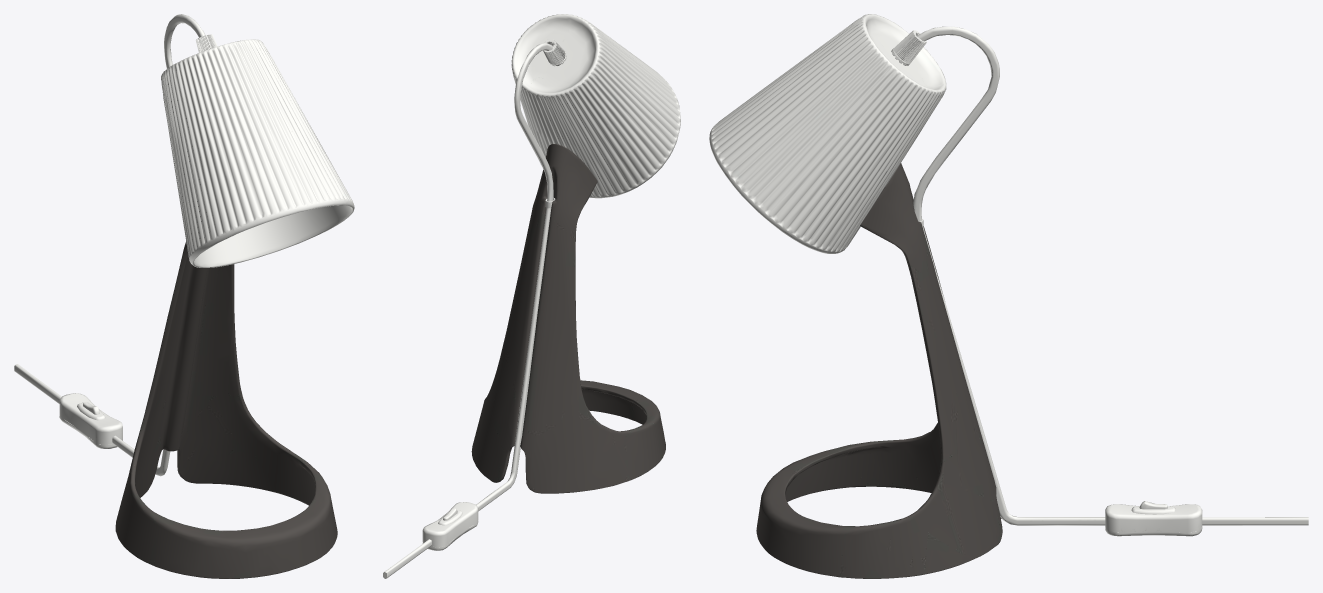
Rendered from SVALLET work lamp.glb.
3 renders of one model, left to right at view 1: azimuth 30°, elevation 25°; view 2: azimuth 150°, elevation 25°; view 3: azimuth 270°, elevation 25°, orthographic. The views are drawn at different scales.
Parts seen in each view (by area): view 1: 70358487-SVALLET001; view 2: 70358487-SVALLET001; view 3: 70358487-SVALLET001.
Boxes of the visible parts, x1,y1,x2,y2 form: 70358487-SVALLET001: [14, 14, 354, 578]; 70358487-SVALLET001: [383, 14, 680, 578]; 70358487-SVALLET001: [709, 14, 1308, 578].
Size of the model in its own units: 0.142 by 0.3544 by 0.3769.
1 material, 1 textured.
